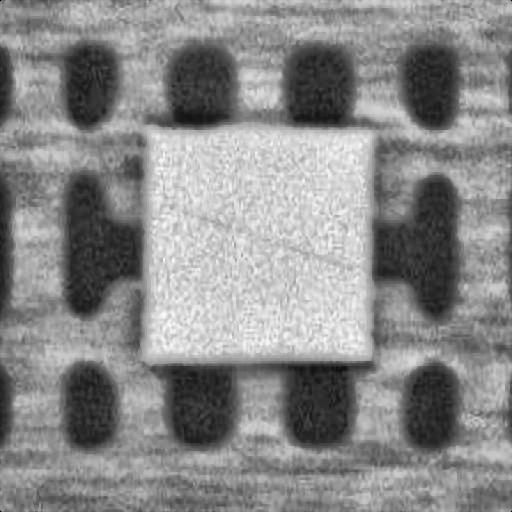DIE_CRACK: (244, 135, 512, 178)
